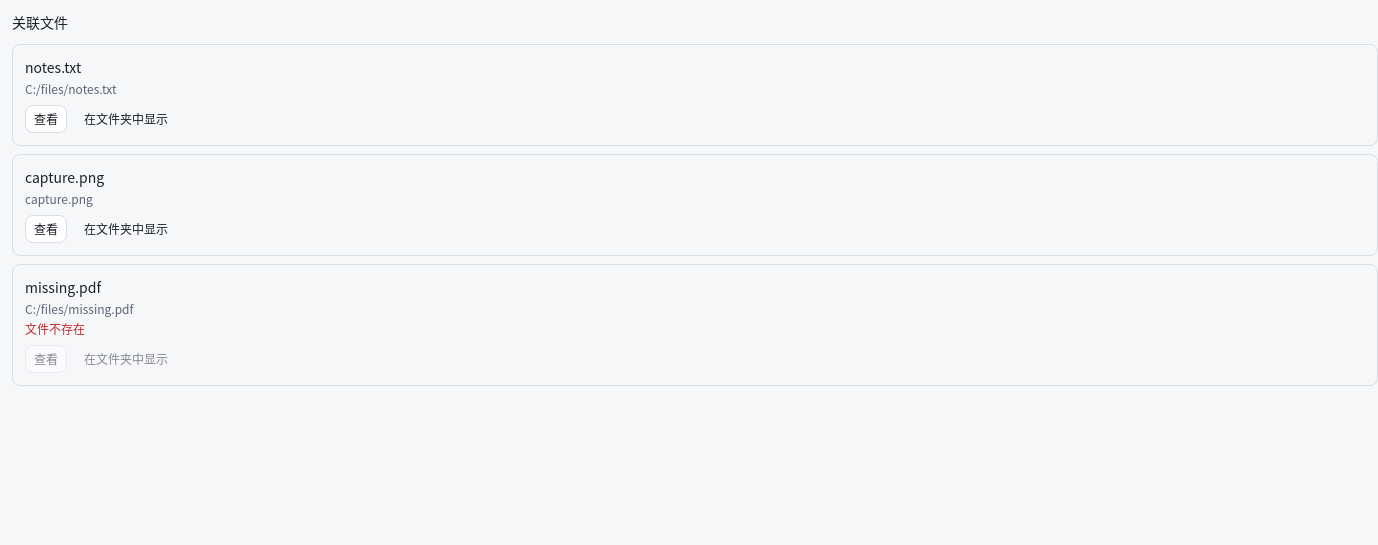
Test: 关联文件只读查看 › 读取失败可以重试，不支持的文件给出查看方式
Click the button with aria-label "查看「notes.txt」" at [46, 119], box [25,105,67,133]
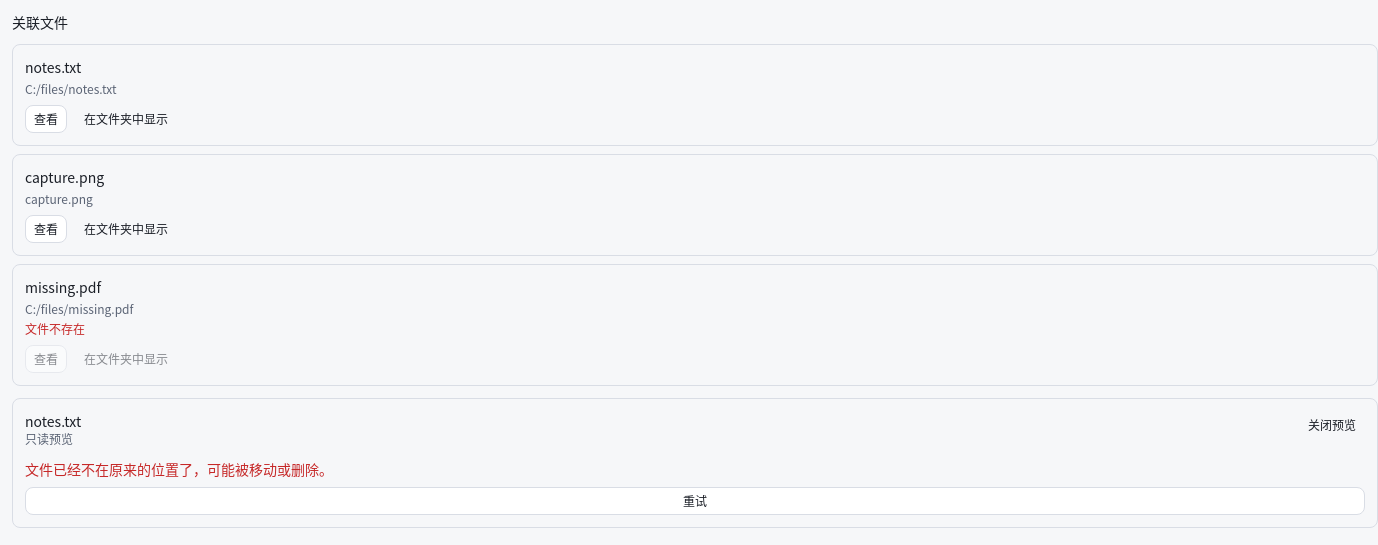
Result: the message "文件已经不在原来的位置了，可能被移动或删除。" is shown at [25,459,333,479]
Click the button "重试" at [695, 501], box [25,487,1365,515]
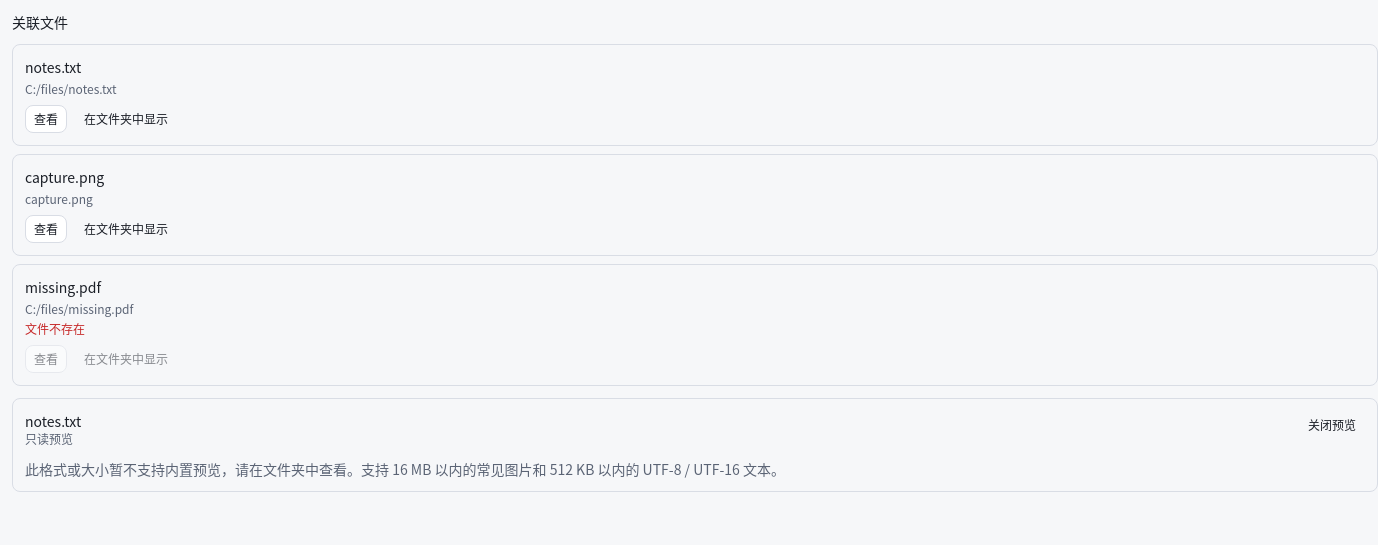
Result: the text "此格式或大小暂不支持内置预览" is shown at [25,459,785,479]
